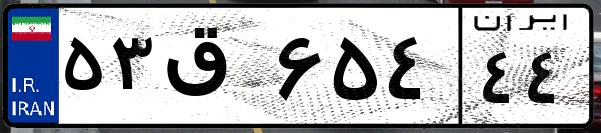3: (110, 28, 158, 98)
4: (385, 28, 445, 110), (475, 38, 525, 113), (525, 38, 570, 115)
5: (330, 28, 385, 110), (57, 26, 110, 100)
6: (270, 28, 330, 110)
ق: (158, 20, 270, 120)
